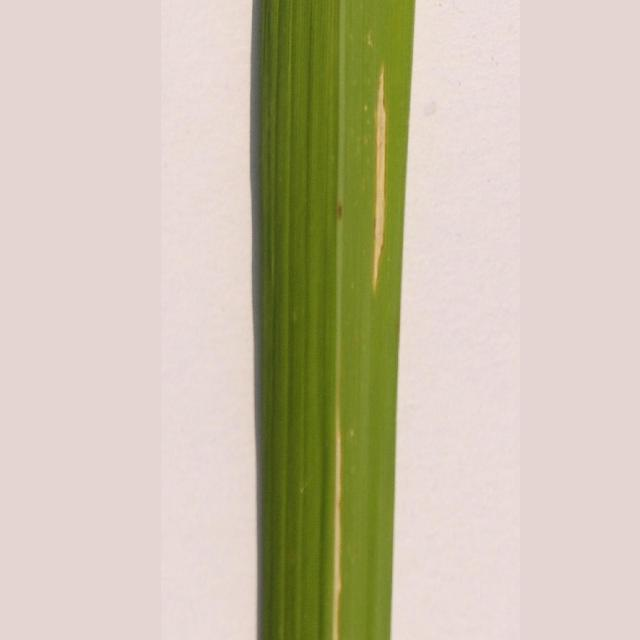leaf blight: (320, 393, 367, 638), (355, 60, 404, 288)
